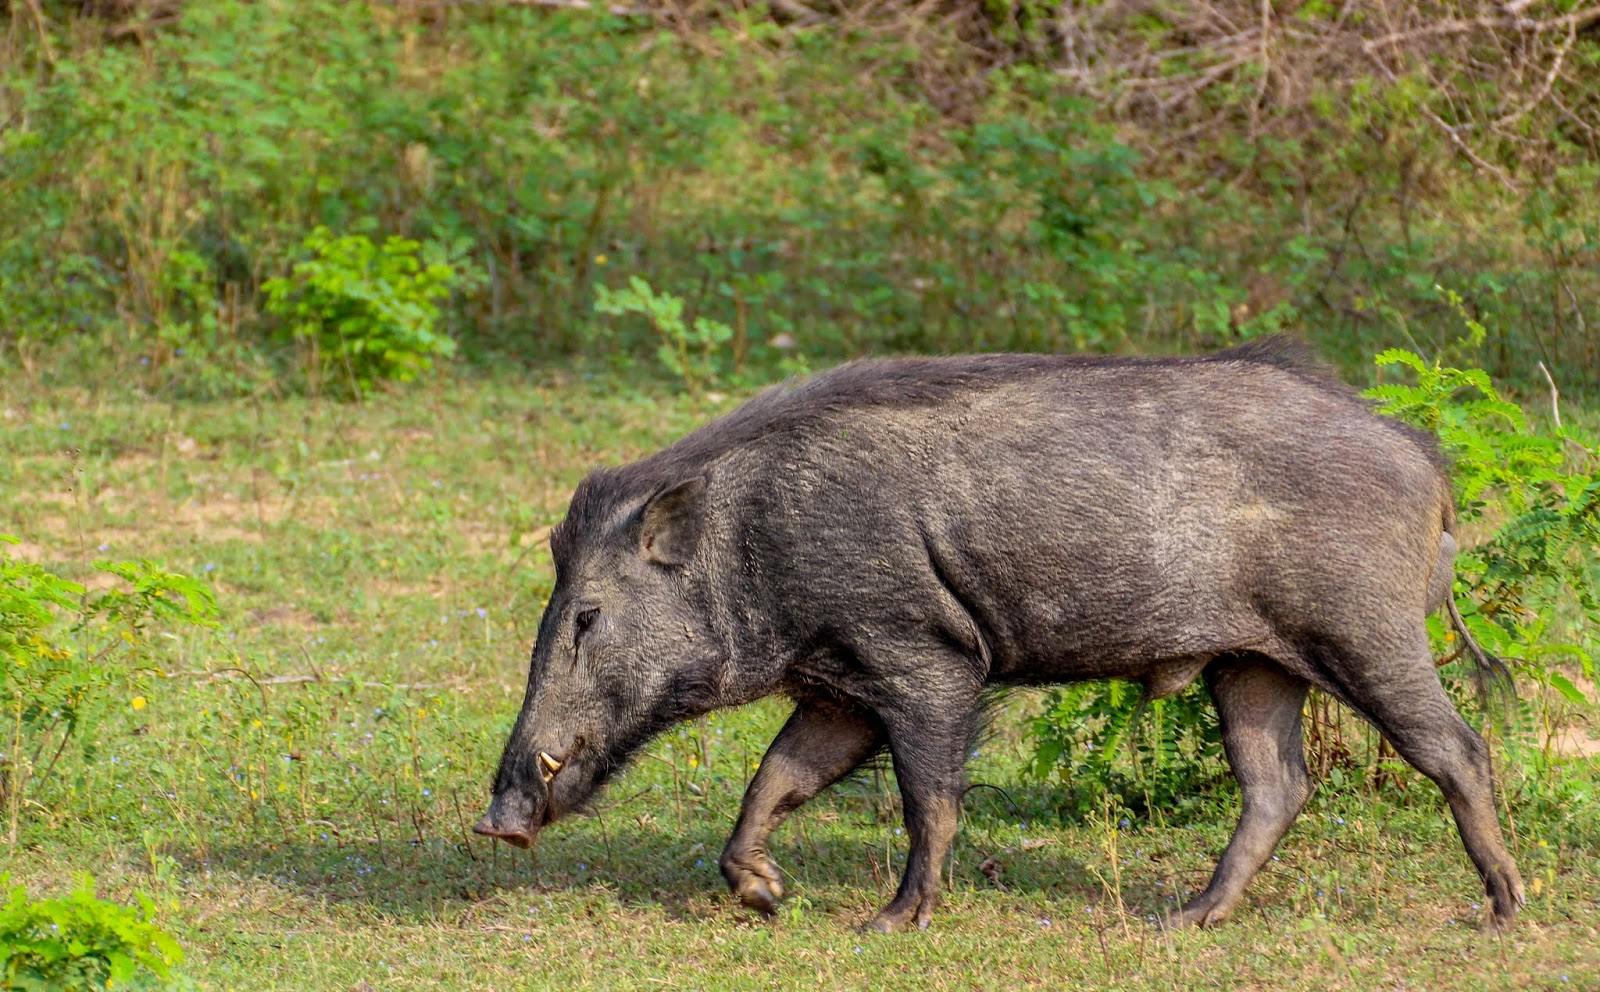wild boar: (474, 331, 1534, 914)
